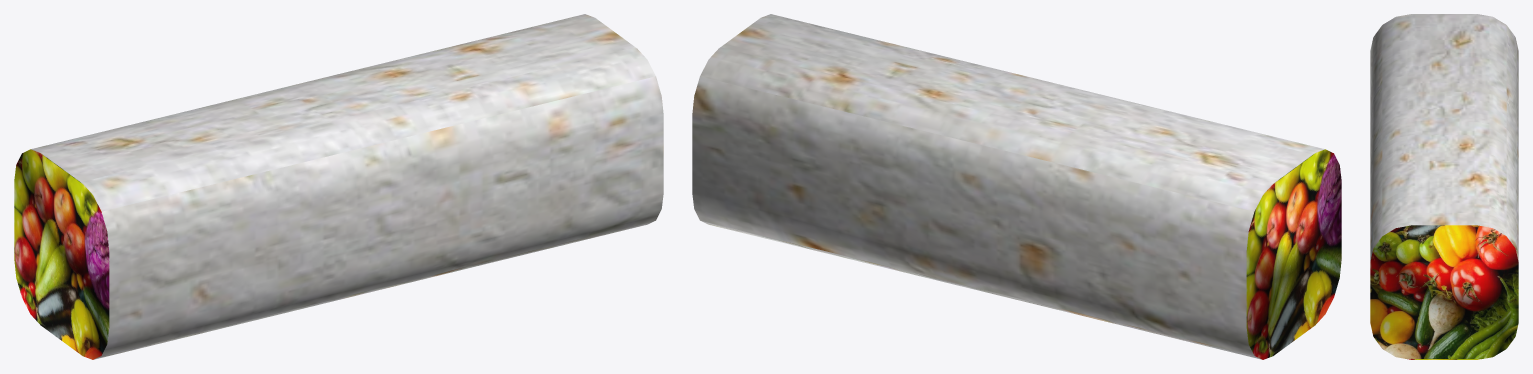
File: шаурма.fbx
The picture shows the model from 3 angles, left to right: view 1: azimuth 30°, elevation 25°; view 2: azimuth 150°, elevation 25°; view 3: azimuth 270°, elevation 25°; orthographic projection. The views are drawn at different scales.
Visible parts, largest first — view 1: Cube; view 2: Cube; view 3: Cube.
Part boxes in pixels (left/top/right/bottom): Cube: left=14, top=14, right=663, bottom=359; Cube: left=692, top=14, right=1341, bottom=359; Cube: left=1370, top=14, right=1518, bottom=359.
Size of the model in its own units: 673 by 200 by 200.
2 materials, 2 textured.
